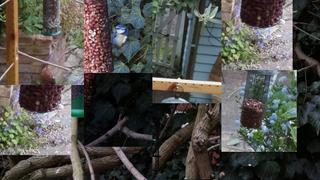blue tit: (108, 24, 128, 54)
